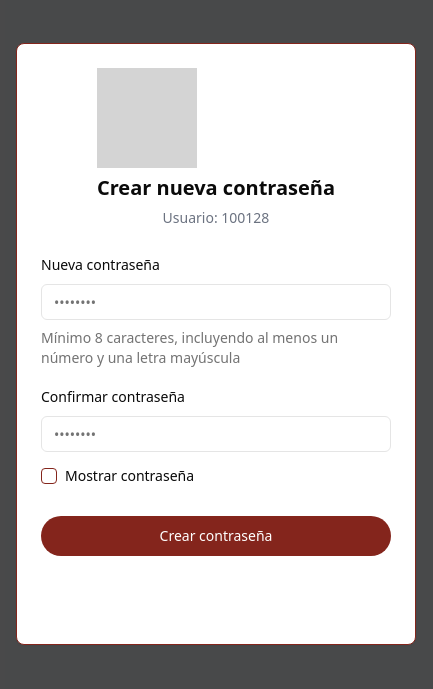
Test: CreatePassword Component › shows error when API returns an error
Expected: the button "Crear contraseña" is shown, [41, 516, 391, 556]
Type "Password123!" into the password field labelled "Nueva contraseña" at (216, 302), box [41, 284, 391, 320]
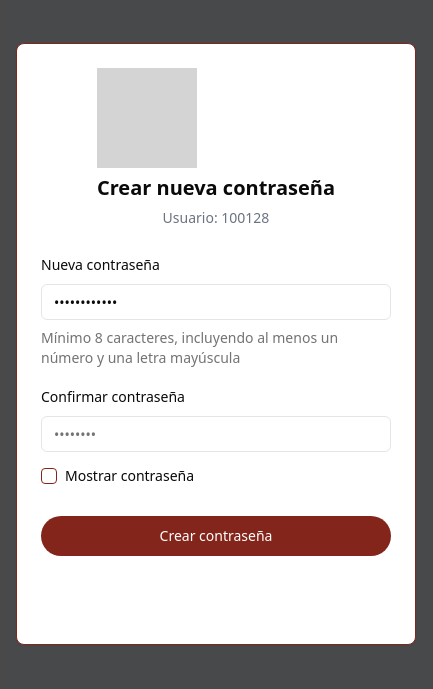
Type "Password123!" into the password field labelled "Confirmar contraseña" at (216, 434), box [41, 416, 391, 452]
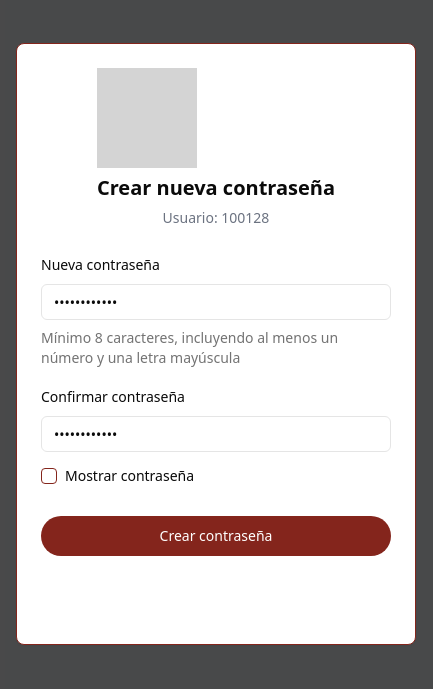
Click the button "Crear contraseña" at (216, 536), box [41, 516, 391, 556]
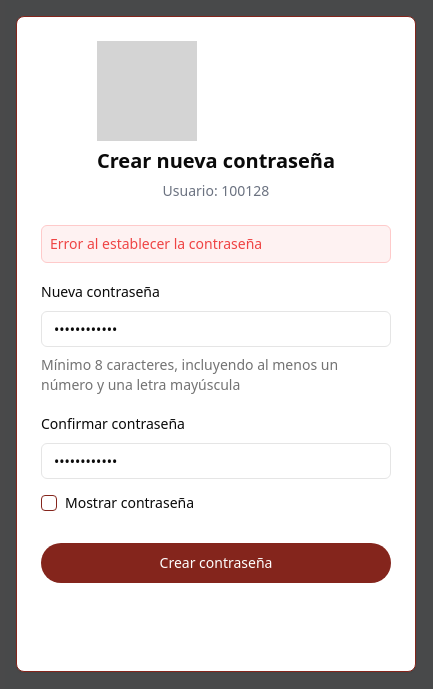
Expected: the text "Error al establecer la contraseña" is shown, [41, 225, 391, 263]
